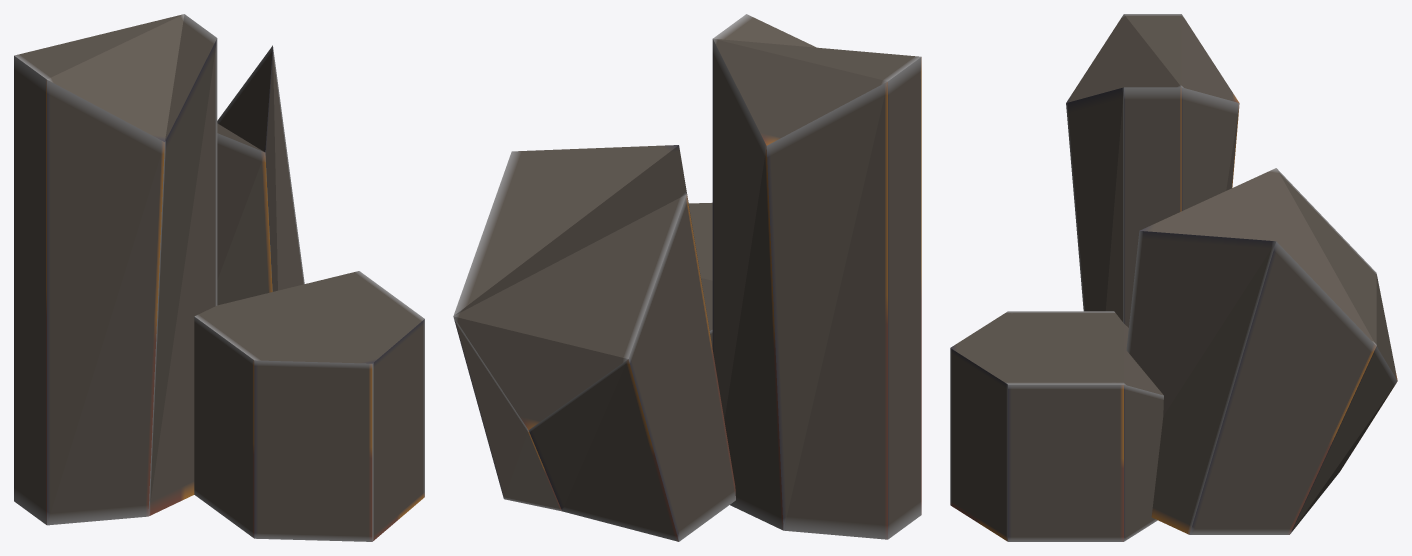
The model's file is carvao.gltf.
3 renders of one model, left to right at view 1: azimuth 30°, elevation 25°; view 2: azimuth 150°, elevation 25°; view 3: azimuth 270°, elevation 25°, orthographic. The views are drawn at different scales.
Size of the model in its own units: 2.75 by 3.75 by 3.87.
Materials: 1 (1 with a texture image).
